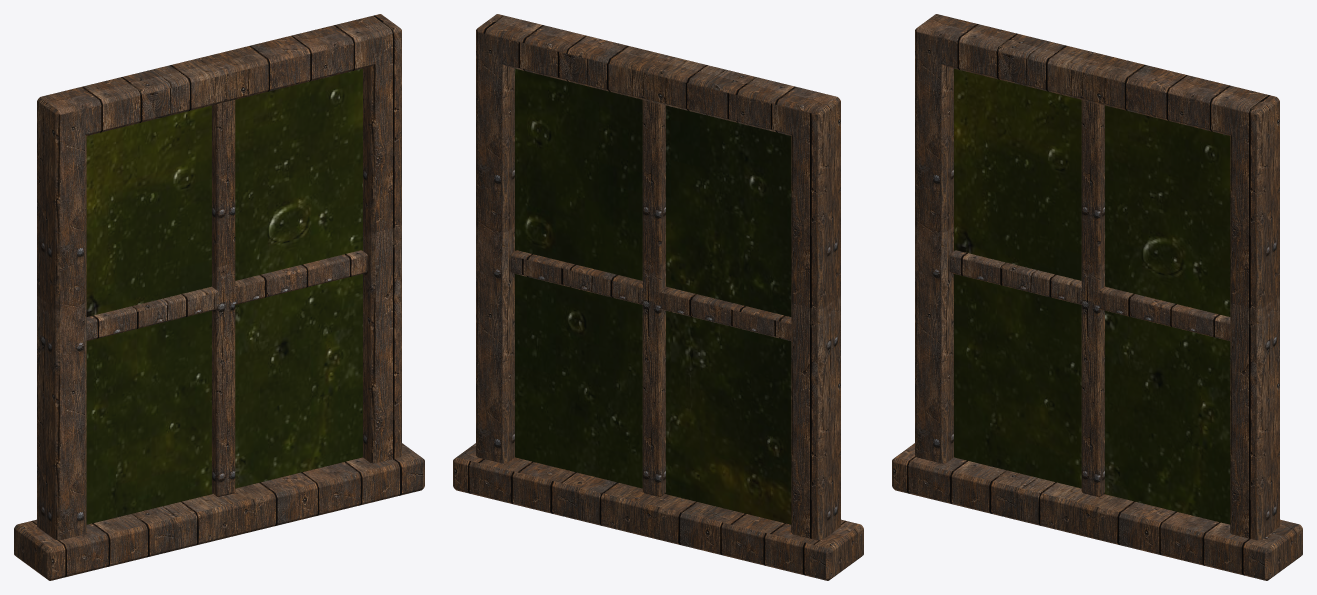
The model's file is window-frame-v01.glb.
3 renders of one model, left to right at view 1: azimuth 30°, elevation 25°; view 2: azimuth 150°, elevation 25°; view 3: azimuth 330°, elevation 25°, orthographic.
Parts seen in each view (by area): view 1: window-frame; view 2: window-frame; view 3: window-frame.
Boxes of the visible parts, x1=… form: window-frame: x1=14, y1=14, x2=424, y2=580; window-frame: x1=453, y1=14, x2=863, y2=580; window-frame: x1=892, y1=14, x2=1302, y2=580.
Bounding box in the file's own units: 1.2 × 1.4 × 0.2.
Materials: 2 (2 with a texture image).
